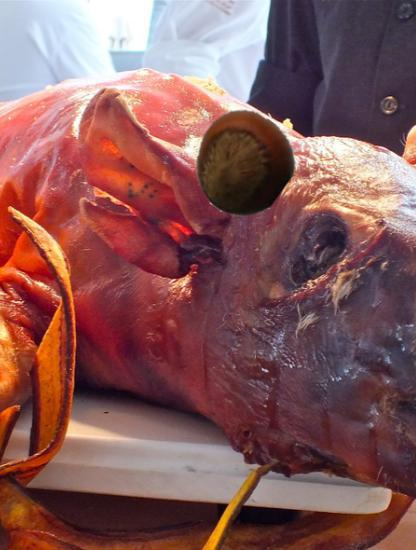Nut: (191, 112, 295, 216)
